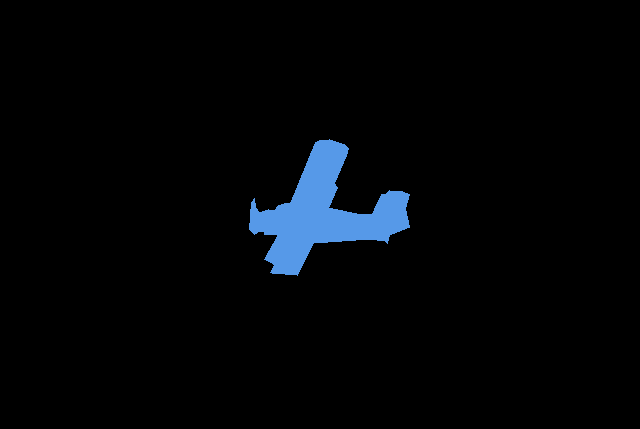Airplane: (249, 139, 410, 275)
